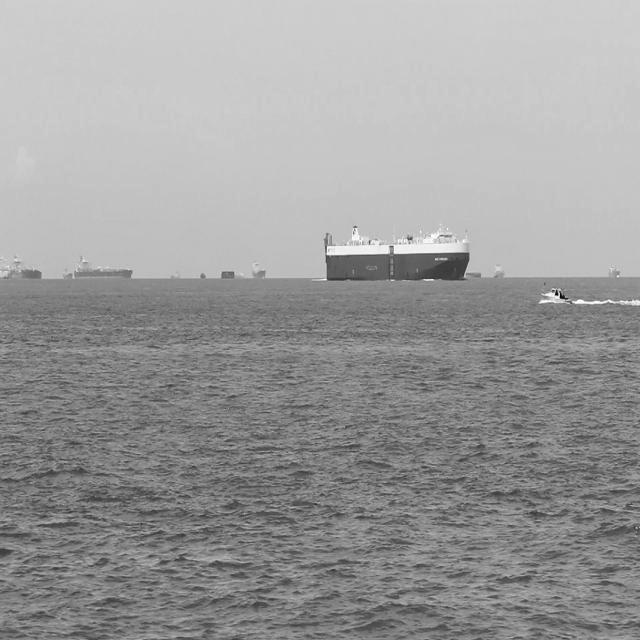ship: (319, 212, 472, 284), (73, 252, 136, 282), (0, 251, 46, 282), (540, 275, 574, 306), (250, 255, 269, 281), (606, 257, 624, 282), (492, 258, 508, 281), (60, 262, 74, 280)
